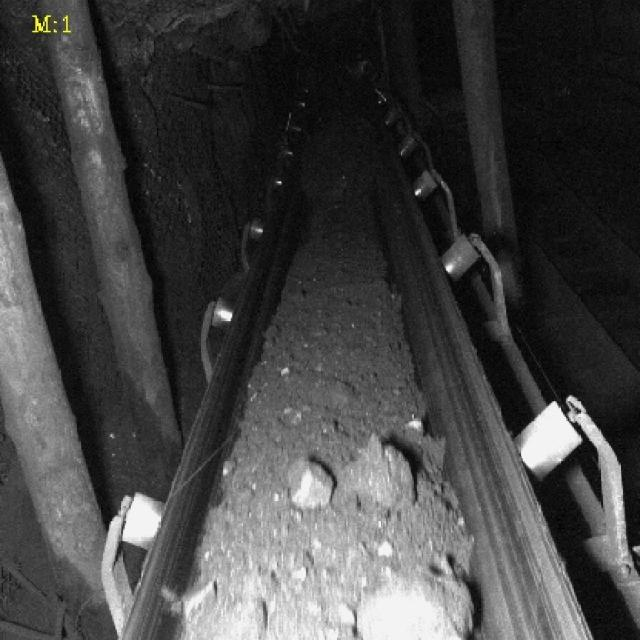large_sized_coal: (360, 572, 474, 640), (338, 436, 417, 510), (284, 458, 334, 511)
